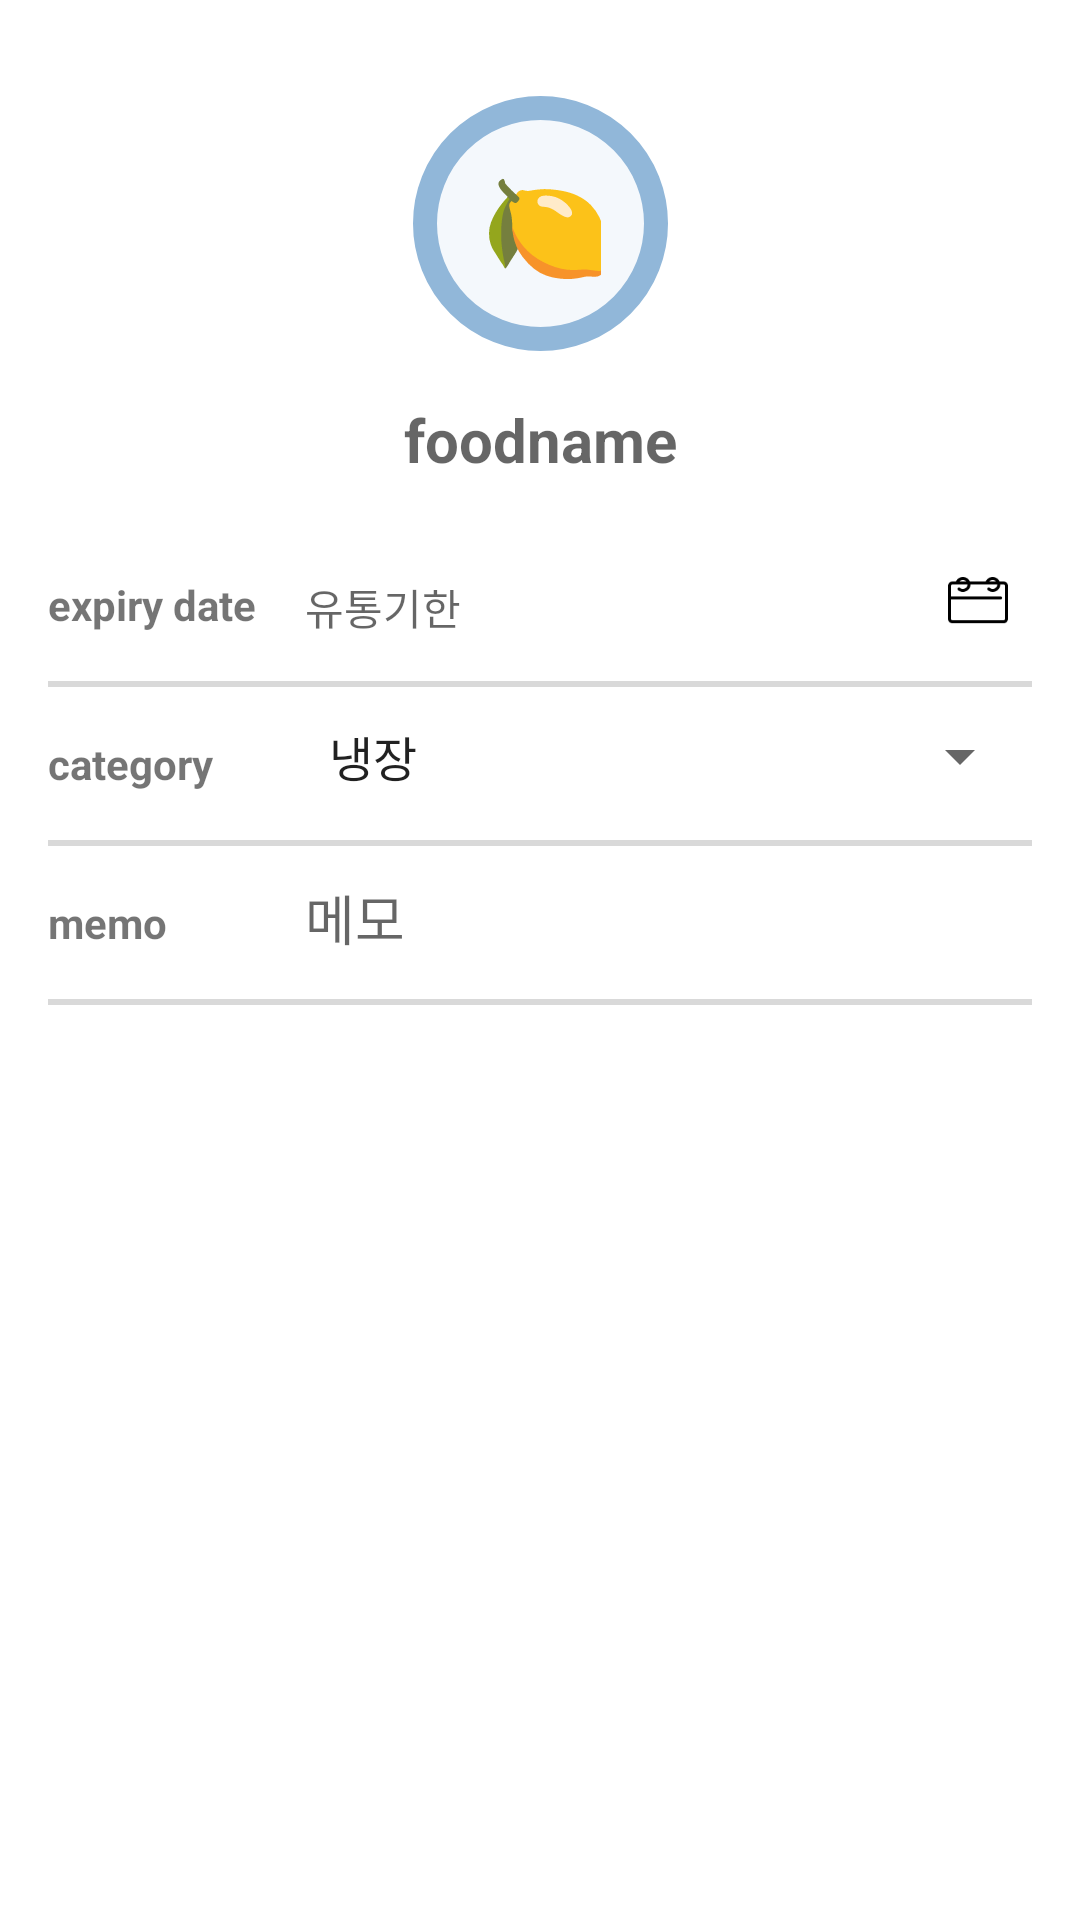

Named icons in this screenshot (1080px×1920px) and their bounding boxes, (x1, y1, x2, y2):
calendar: (948, 577, 1008, 624)
